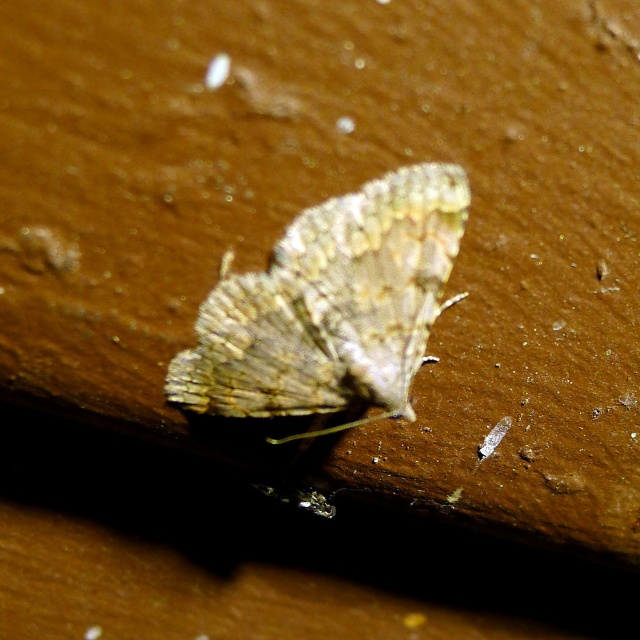Butterfly: (179, 170, 501, 458)
